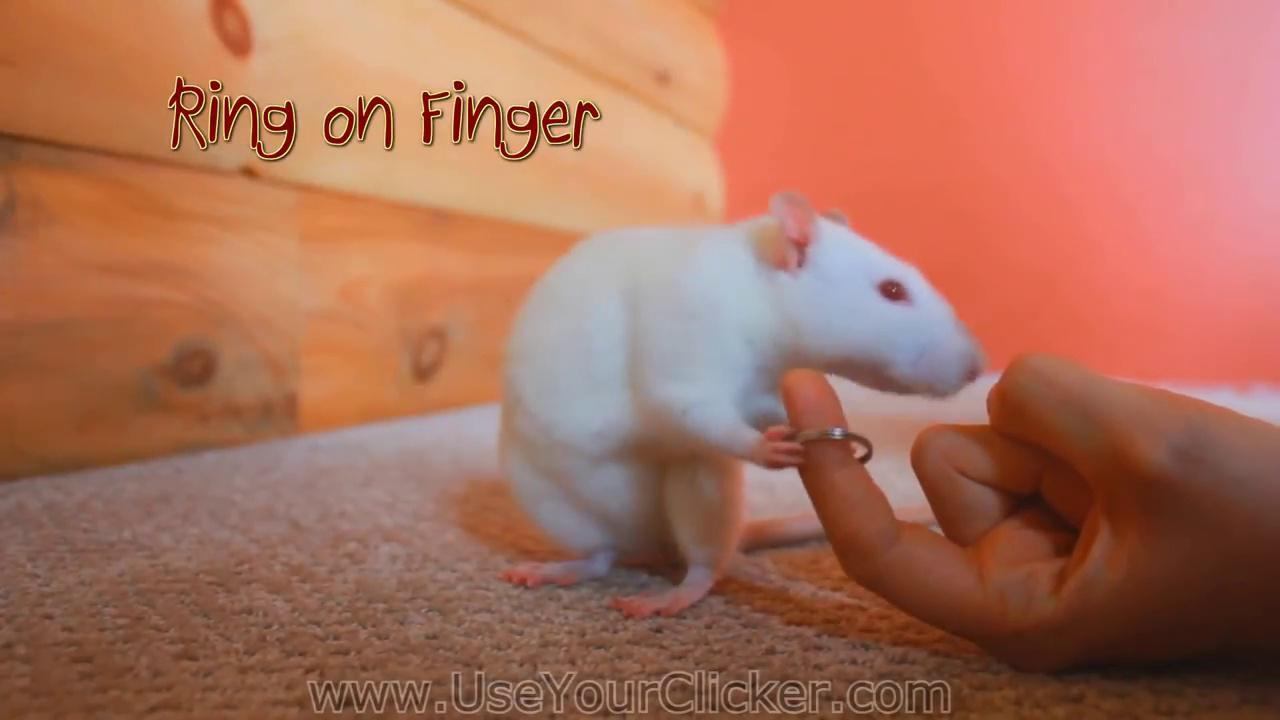rat: (501, 192, 985, 620)
